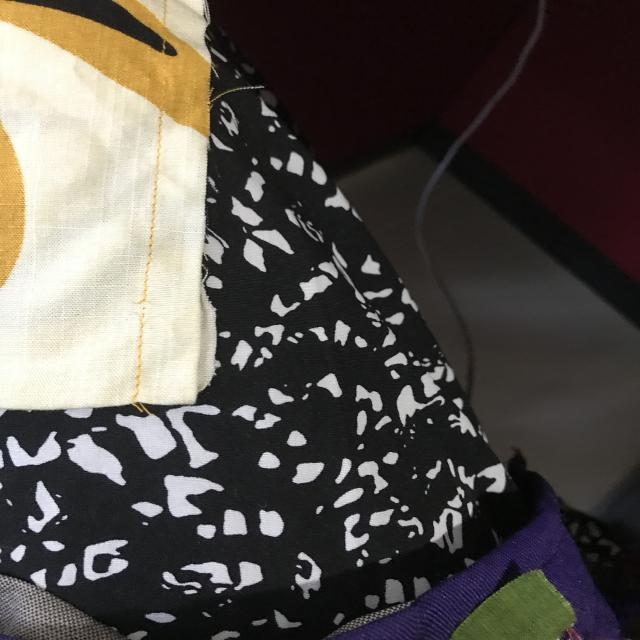broken: (134, 286, 150, 336)
